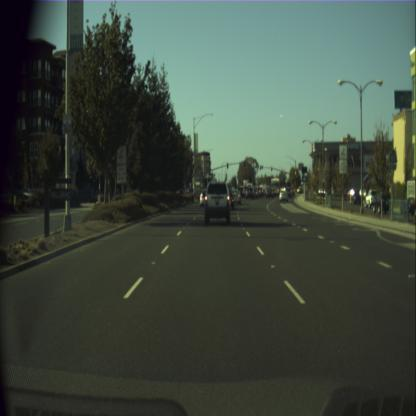Red: (284, 169, 286, 175), (259, 165, 261, 170), (271, 165, 272, 171)
